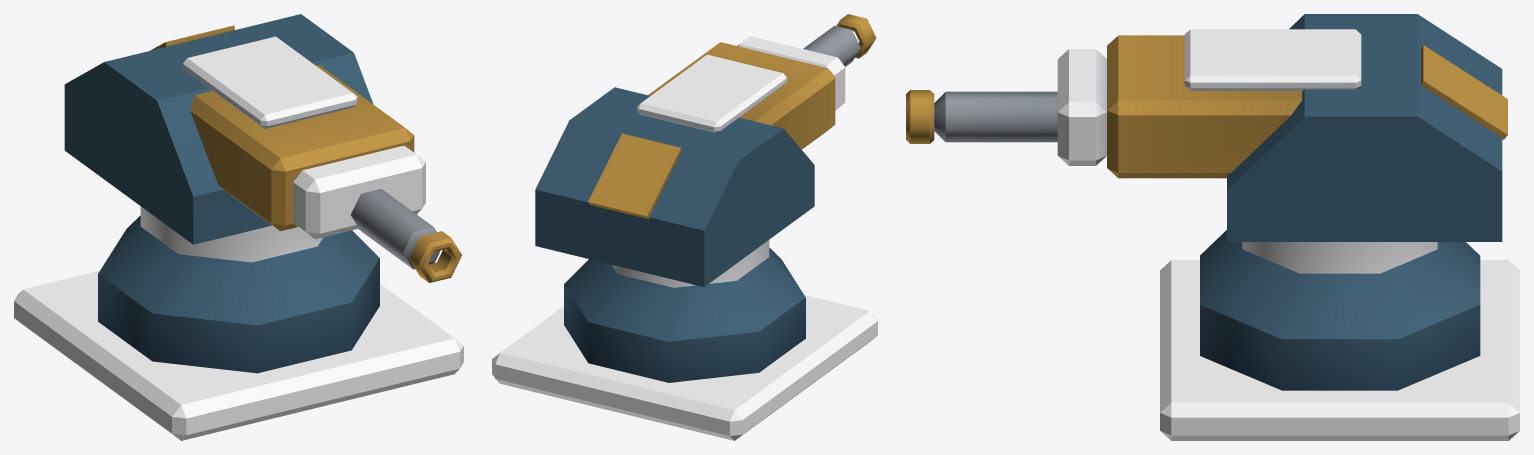
The model's file is R4W_Basic_LOD1.fbx.
3 renders of one model, left to right at view 1: azimuth 30°, elevation 25°; view 2: azimuth 150°, elevation 25°; view 3: azimuth 270°, elevation 25°, orthographic. The views are drawn at different scales.
Visible parts, largest first — view 1: R4W_Basic_LOD1; view 2: R4W_Basic_LOD1; view 3: R4W_Basic_LOD1.
Boxes of the visible parts, bbox=[...] form: R4W_Basic_LOD1: bbox=[14, 14, 463, 440]; R4W_Basic_LOD1: bbox=[492, 14, 877, 440]; R4W_Basic_LOD1: bbox=[906, 14, 1519, 440].
Bounding box in the file's own units: 0.51 × 0.496 × 0.87.
